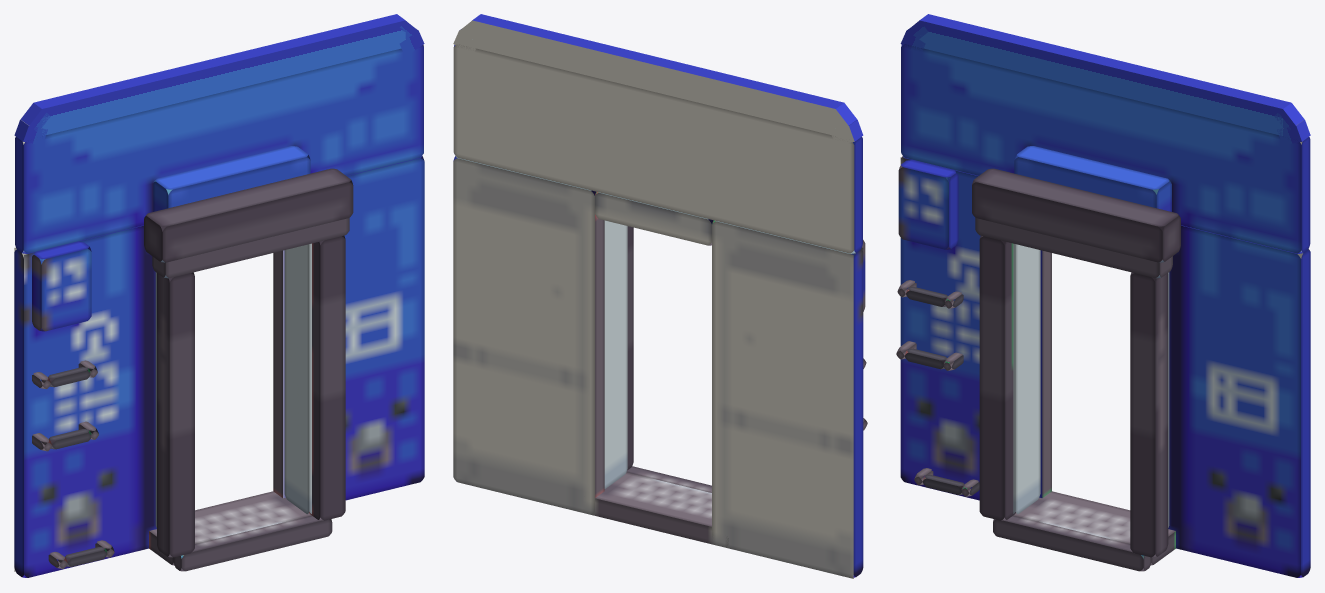
File: end_face_original_25k_2.obj
3 views of the same model, side by side, from view 1: azimuth 30°, elevation 25°; view 2: azimuth 150°, elevation 25°; view 3: azimuth 330°, elevation 25° (orthographic).
Parts seen in each view (by area): view 1: cube, cube_selection_selection; view 2: cube, cube_selection_selection; view 3: cube, cube_selection_selection.
Part boxes in pixels (x1,y1,x2,y2): cube: (14,45,424,577); cube_selection_selection: (14,14,424,145); cube: (453,39,867,578); cube_selection_selection: (453,14,863,145); cube: (896,44,1310,577); cube_selection_selection: (900,14,1310,145).
Bounding box in the file's own units: 3 × 3.32 × 0.5594.
